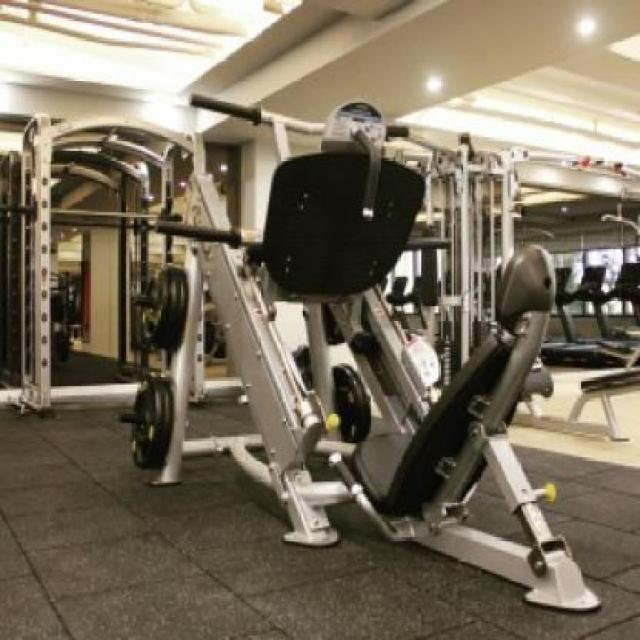leg press: (96, 74, 610, 629)
